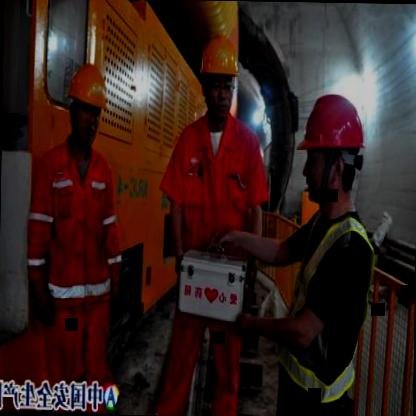helmet: (294, 80, 368, 217), (196, 25, 242, 122), (61, 55, 108, 149)
